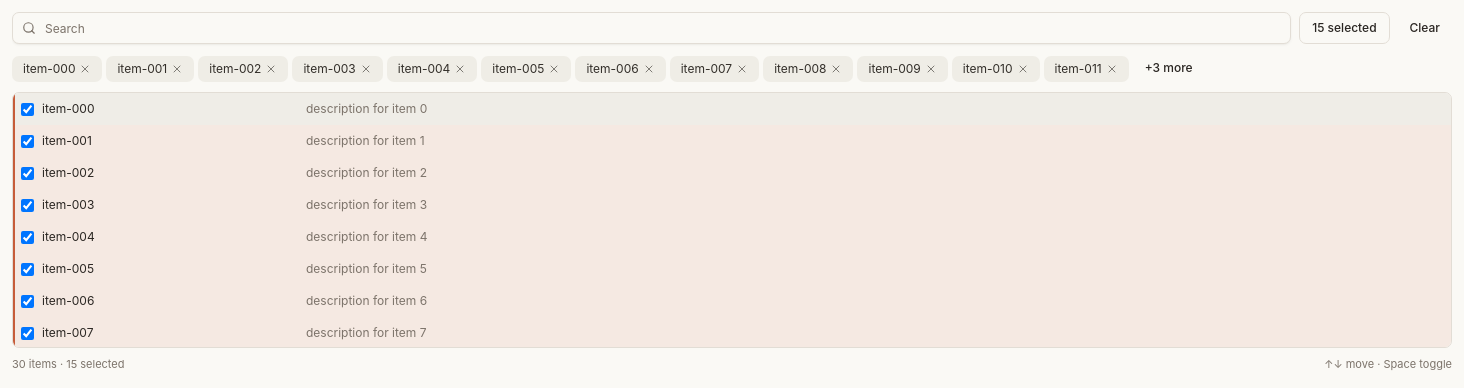
Test: EntityPicker selection › collapses an oversized chip tray behind an expand toggle
The width and height of the screenshot is (1464, 388).
What coordinates should you click on to do the following:
click the button "+3 more"
I would click on:
 (1169, 68)
Its box is [1133,52,1205,84].
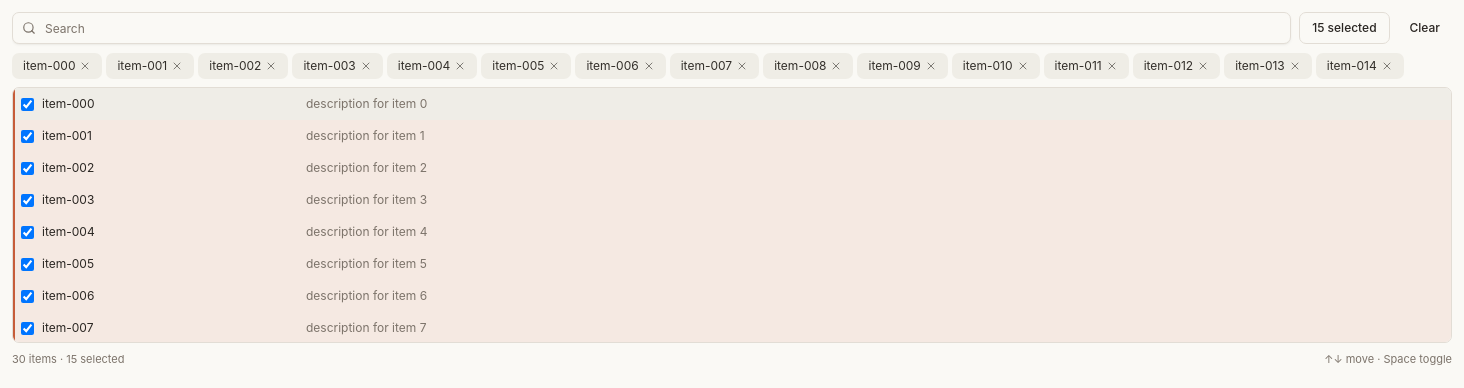
Result: the number of buttons named "Remove " is 15
